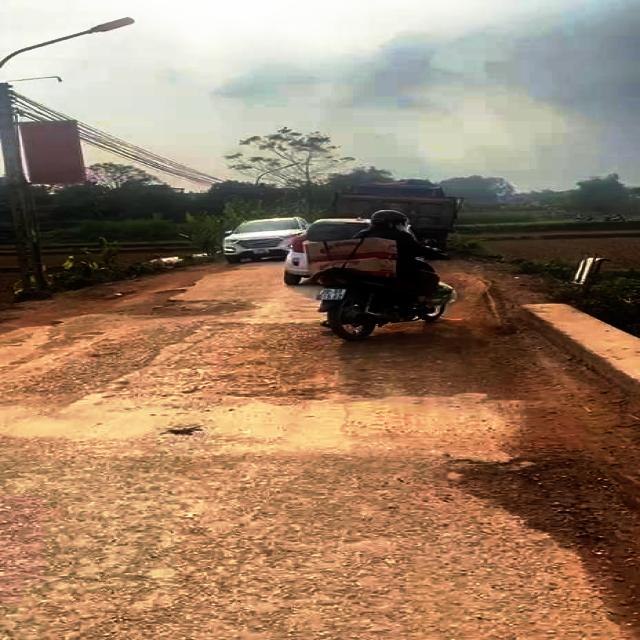pothole: (425, 439, 640, 561), (41, 287, 268, 329)
